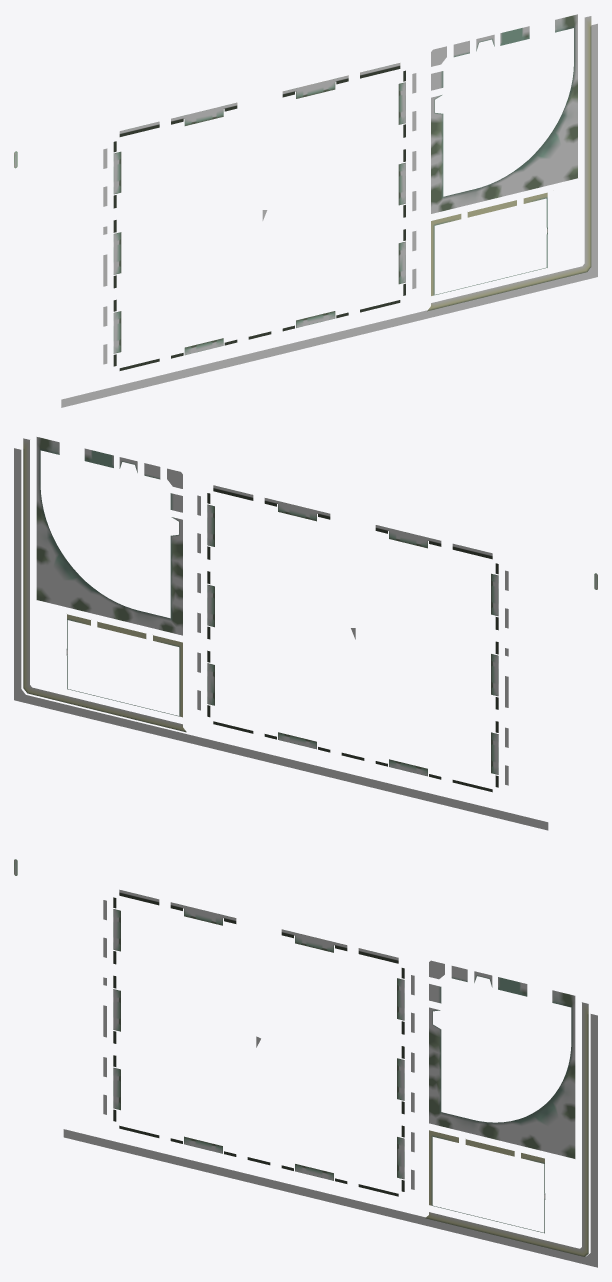
The model's file is SM_000415_merge_ground01_grass02__002.fbx.
3 views of the same model, one above another, from view 1: azimuth 30°, elevation 25°; view 2: azimuth 150°, elevation 25°; view 3: azimuth 330°, elevation 25° (orthographic).
Visible parts, largest first — view 1: SM_000415.001; view 2: SM_000415.001; view 3: SM_000415.001.
Part boxes in pixels (x1,y1,x2,y2): SM_000415.001: [14, 14, 597, 407]; SM_000415.001: [14, 437, 597, 830]; SM_000415.001: [14, 859, 597, 1267].
Size of the model in its own units: 283 by 125 by 3.2.
